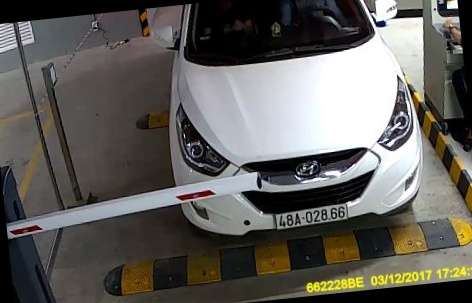plate: (269, 188, 360, 240)
